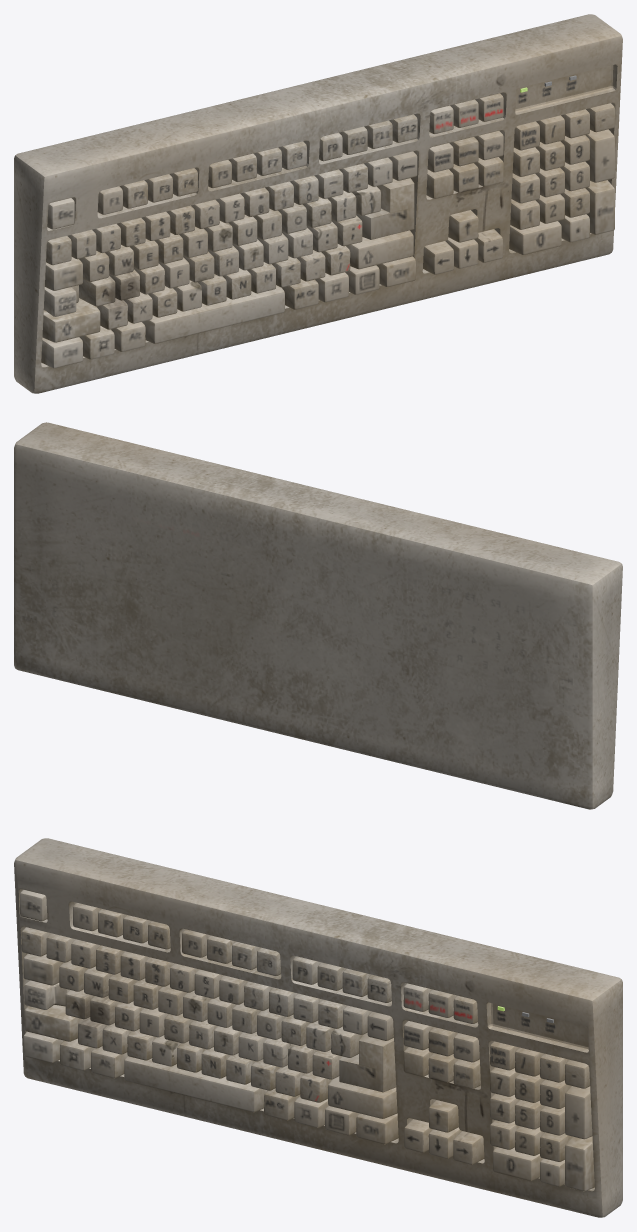
File: 舊鍵盤.fbx
3 views of the same model, one above another, from view 1: azimuth 30°, elevation 25°; view 2: azimuth 150°, elevation 25°; view 3: azimuth 330°, elevation 25° (orthographic).
Visible parts, largest first — view 1: Cube, Cube.020, Cube.021, Cube.023, Cube.022, Cube.033, Cube.016, Cube.010, Cube.012, Cube.011, Cube.043, Cube.036 (+23 smaller); view 2: Cube; view 3: Cube, Cube.020, Cube.021, Cube.023, Cube.022, Cube.033, Cube.016, Cube.012, Cube.011, Cube.036, Cube.010, Cube.043 (+23 smaller).
Part boxes in pixels (x1,y1,x2,y2): Cube: (14, 14, 622, 393); Cube.020: (46, 151, 417, 265); Cube.021: (79, 184, 380, 281); Cube.023: (79, 215, 362, 306); Cube.022: (97, 244, 350, 329); Cube.033: (142, 285, 284, 343); Cube.016: (514, 103, 614, 150); Cube.010: (97, 168, 197, 214); Cube.012: (319, 114, 417, 161); Cube.011: (208, 141, 306, 188); Cube.043: (423, 229, 502, 274); Cube.036: (356, 178, 414, 239); Cube: (14, 422, 622, 809); Cube: (14, 838, 622, 1217); Cube.020: (21, 927, 393, 1040); Cube.021: (59, 960, 362, 1057); Cube.023: (65, 989, 341, 1079); Cube.022: (78, 1017, 331, 1102); Cube.033: (124, 1056, 267, 1112); Cube.016: (490, 1041, 589, 1088); Cube.012: (292, 956, 391, 1002); Cube.011: (182, 929, 280, 975); Cube.036: (339, 1032, 396, 1092); Cube.010: (73, 902, 170, 949); Cube.043: (404, 1119, 484, 1164).
Size of the model in its own units: 5.41 by 2.03 by 0.5262.
1 material, 1 textured.
